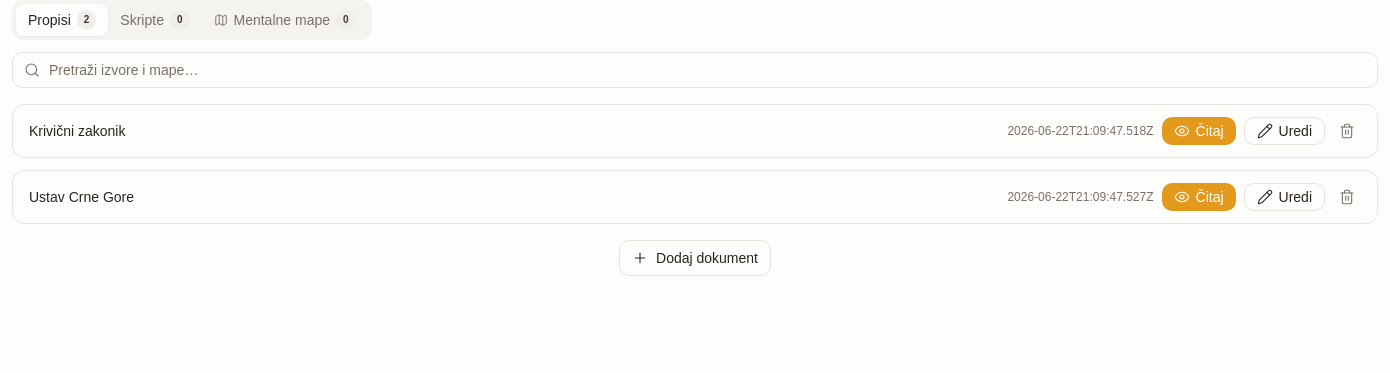
SourcesTab search › filters sources by query and shows empty state
Check: the text "Krivični zakonik" is shown, box [29,123,126,139]
Check: the text "Ustav Crne Gore" is shown, box [29,189,134,205]
Type "ustav" into the field labelled "Pretraži izvore". click: [695, 70]
box: [12,52,1378,88]
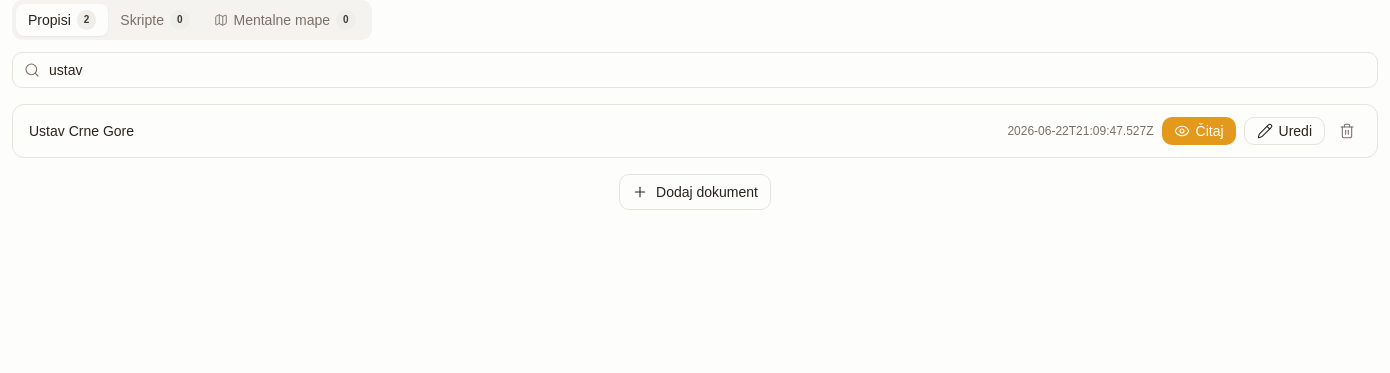
Check: the text "Ustav Crne Gore" is shown, box [29,123,134,139]
Check: the text "Krivični zakonik" is gone
Replace the text in the field named "Pretraži izvore" with "nema takvog". click: [695, 70]
box: [12,52,1378,88]
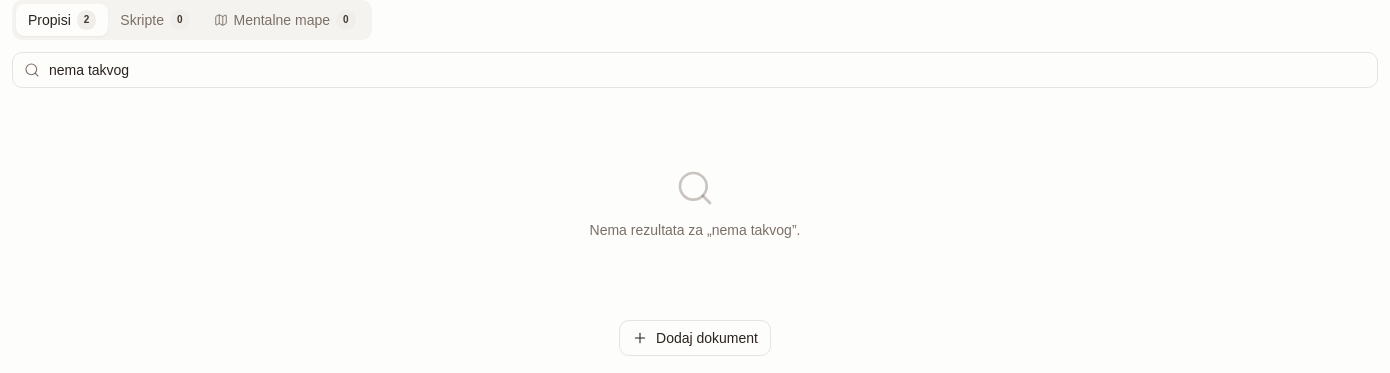
Check: the text "Nema rezultata za „nema takvog”." is shown, box [590,222,800,238]
